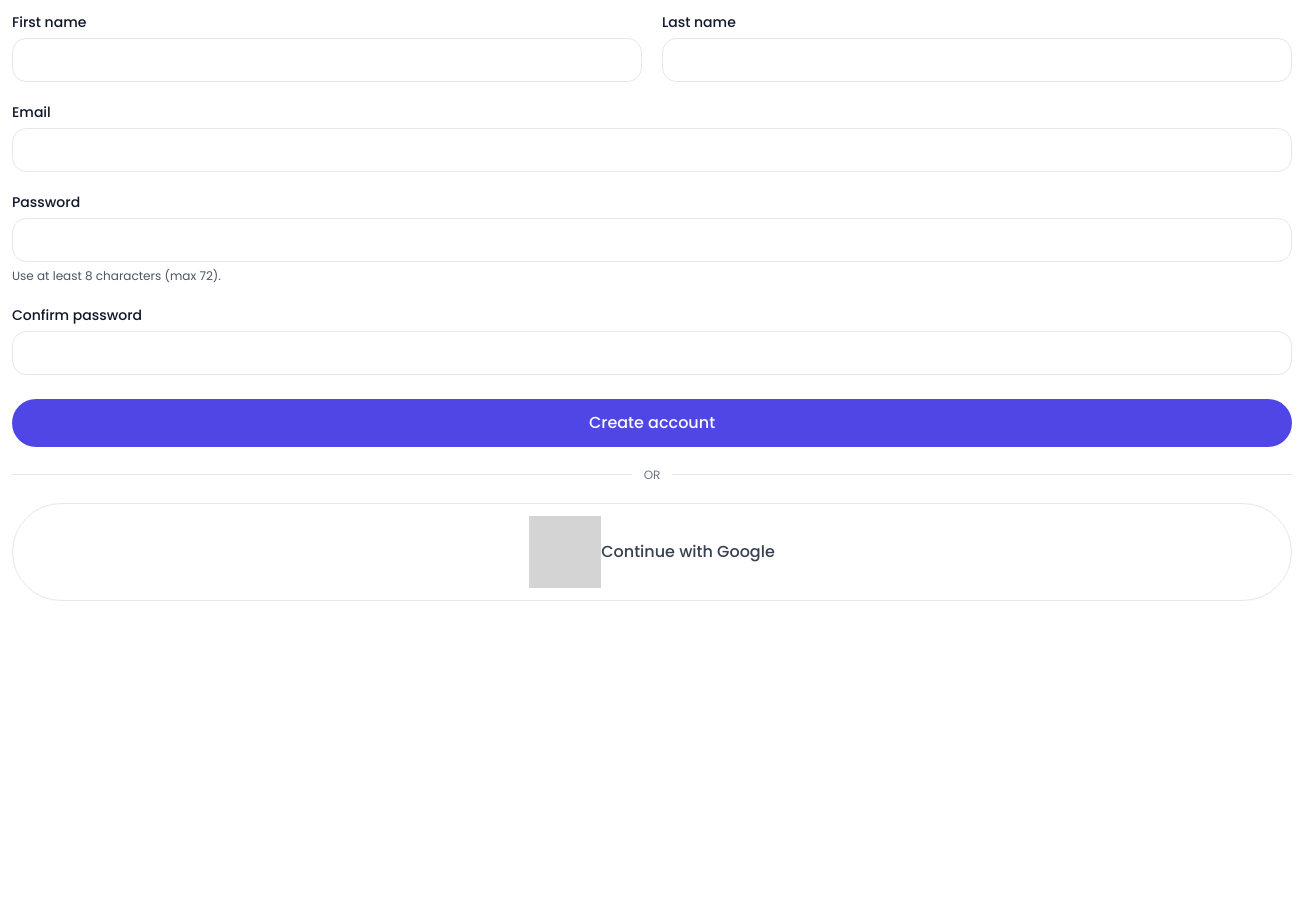
SignUpForm › shows a validation error when passwords do not match
Step 1. Type "Jane" into the field labelled "First name" → (327, 60), box top-left (12, 38), bottom-right (642, 82)
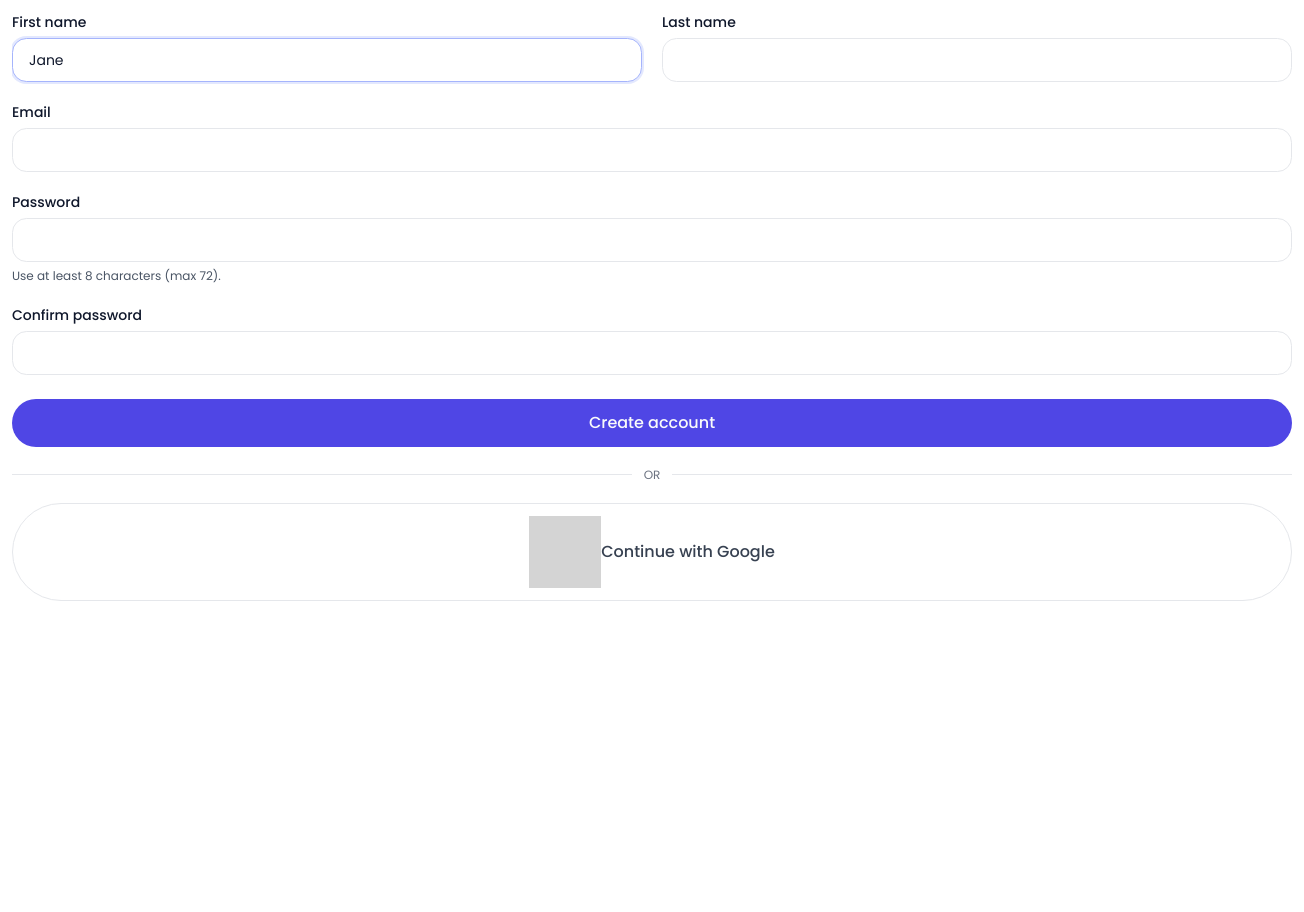
Step 2. Type "Doe" into the field labelled "Last name" → (977, 60), box top-left (662, 38), bottom-right (1292, 82)
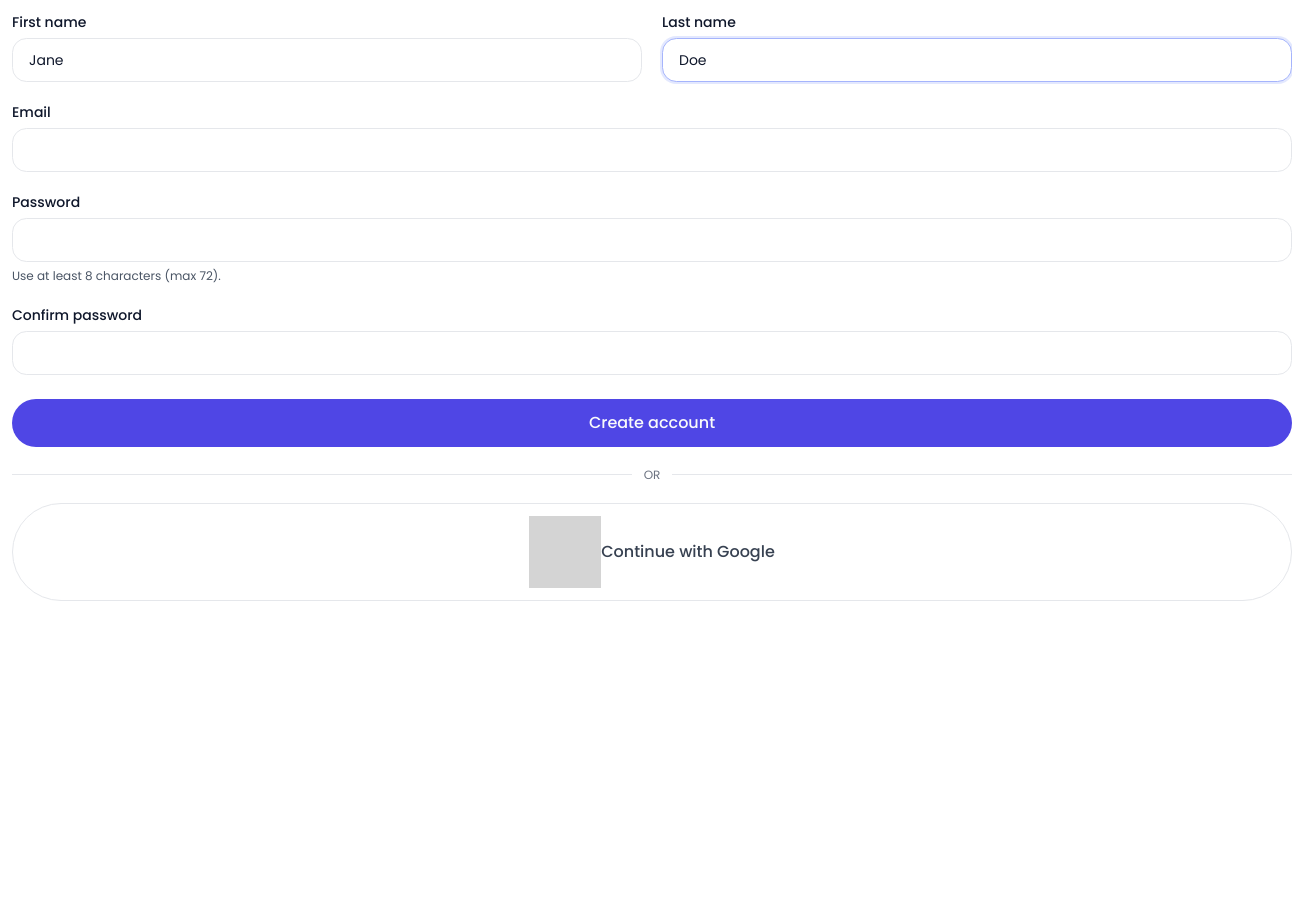
Step 3. Type "jane@example.com" into the field labelled "Email" → (652, 150), box top-left (12, 128), bottom-right (1292, 172)
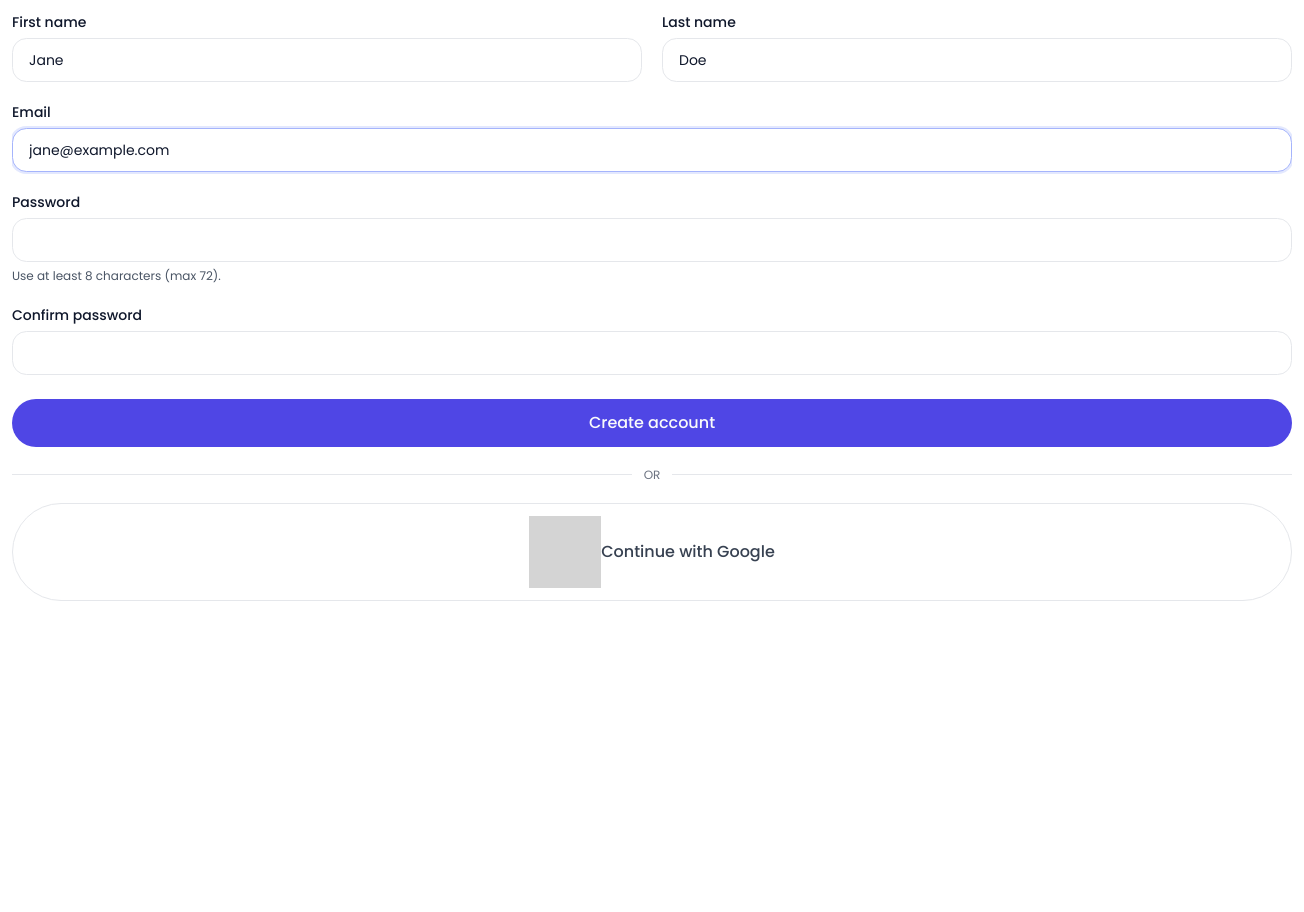
Step 4. Type "Secret123!" into the password field labelled "Password" → (652, 240), box top-left (12, 218), bottom-right (1292, 262)
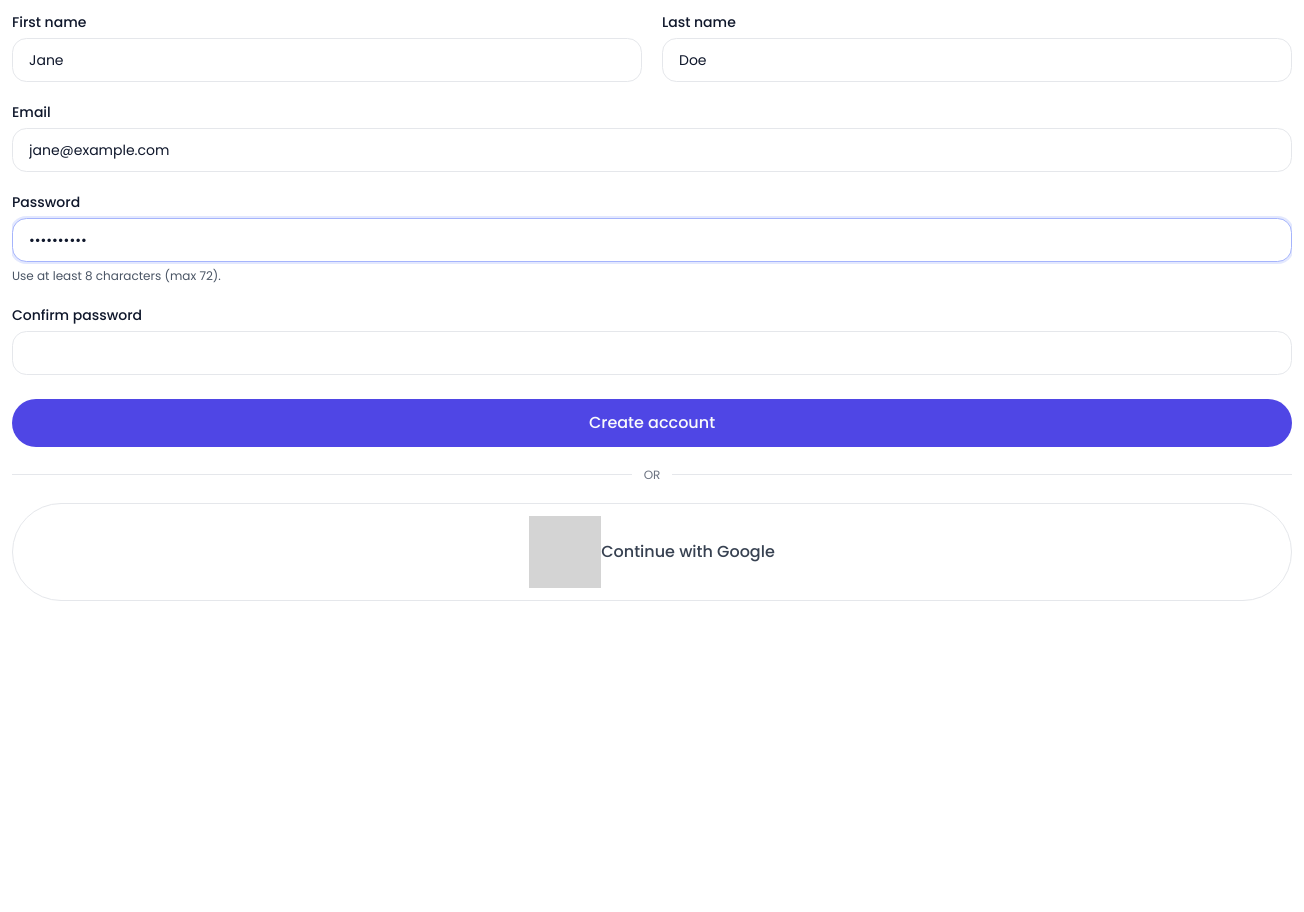
Step 5. Type "different!" into the password field labelled "Confirm password" → (652, 352), box top-left (12, 330), bottom-right (1292, 374)
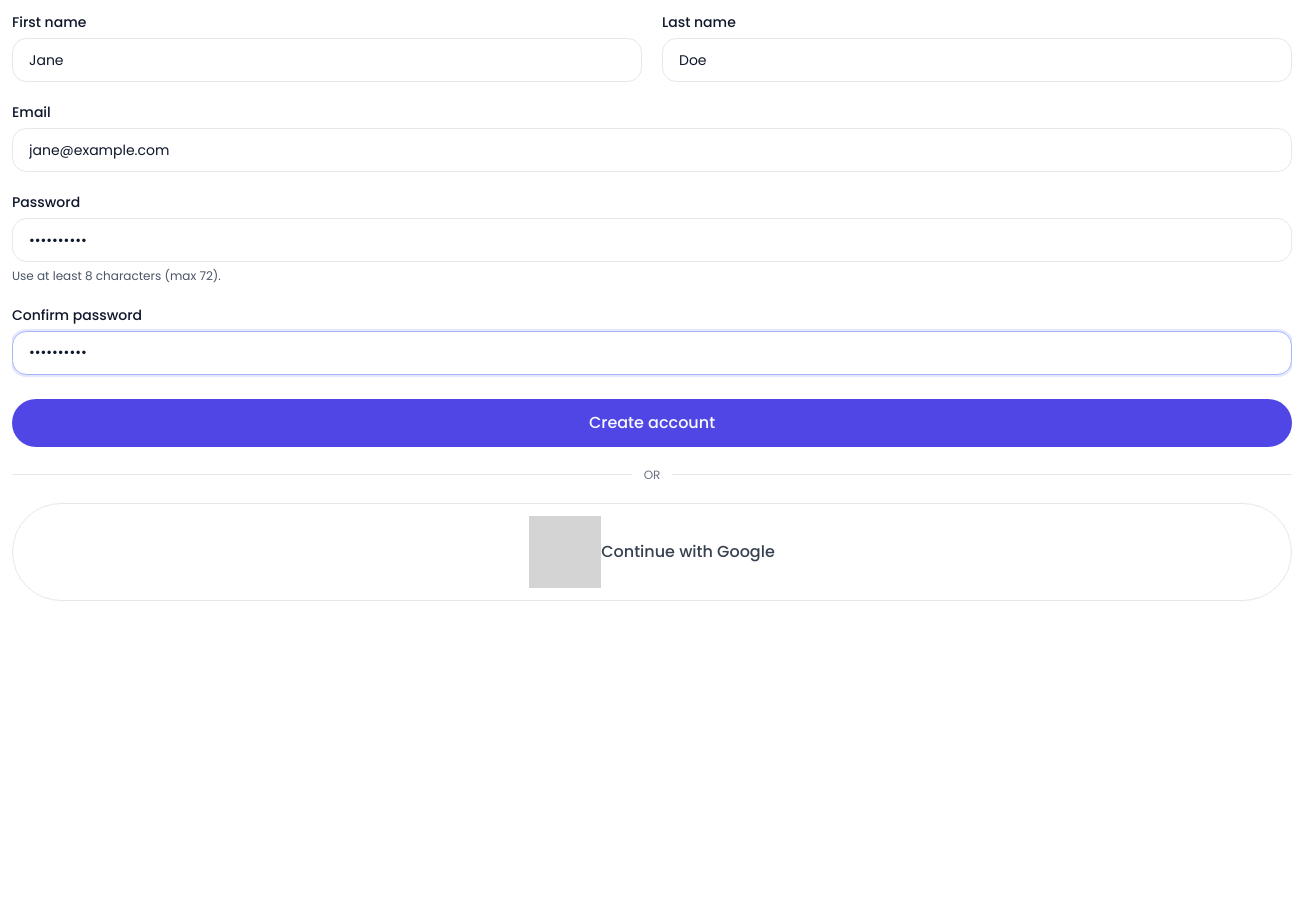
Step 6. Click the button "Create account" → (652, 422), box top-left (12, 398), bottom-right (1292, 446)
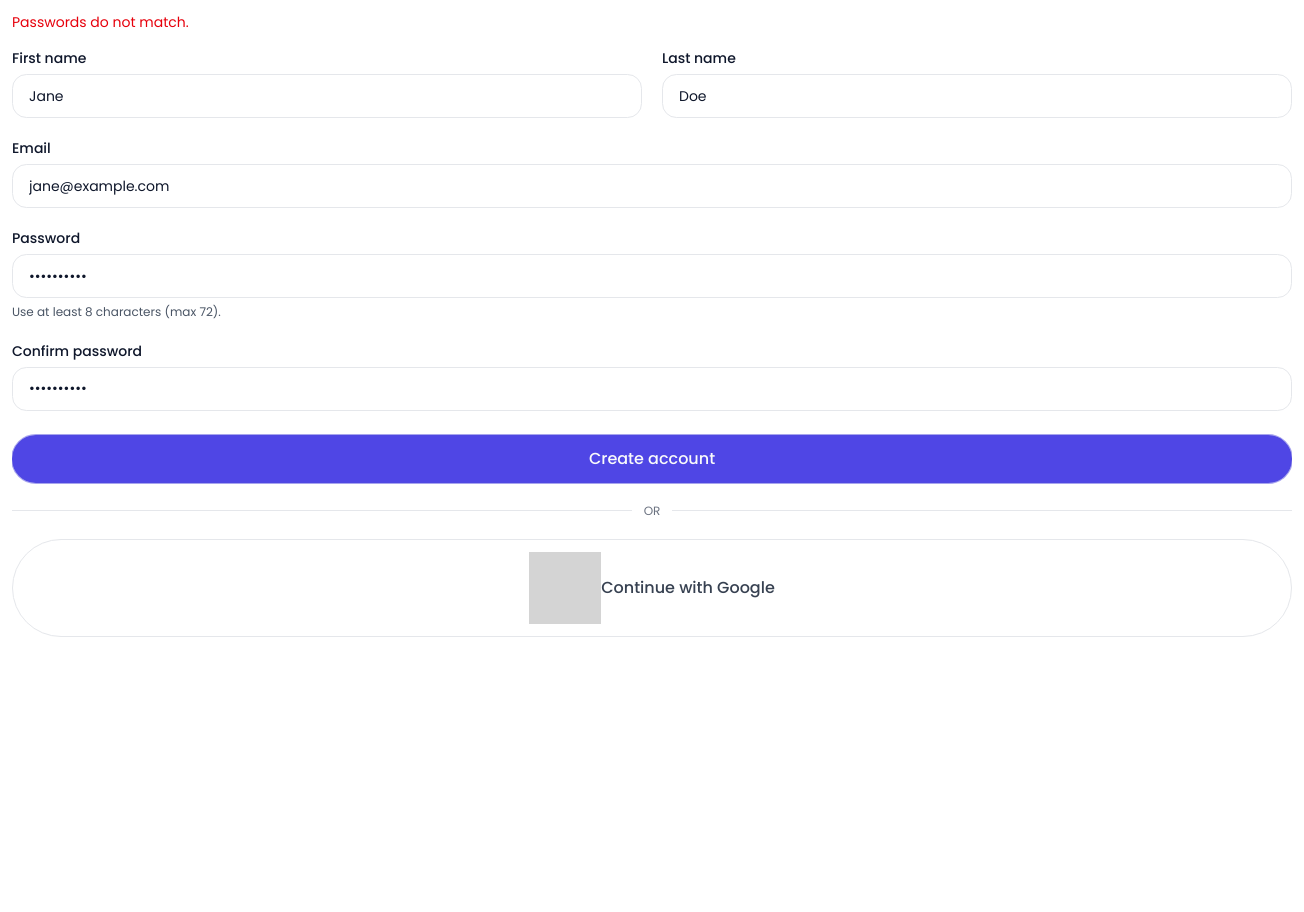
Result: the message reads "Passwords do not match." at top-left (12, 12), bottom-right (189, 32)
